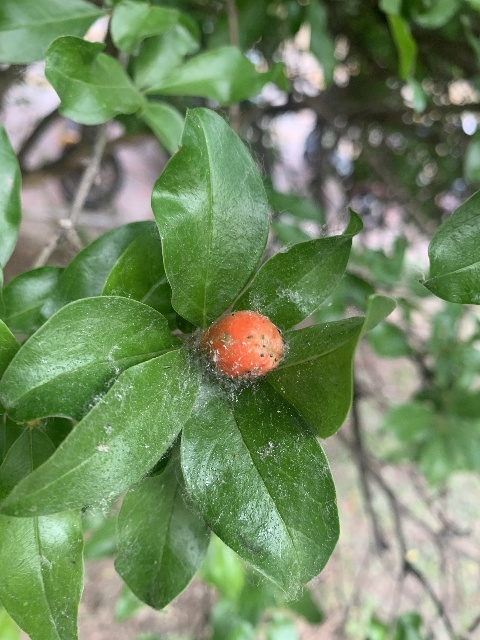bud: (202, 310, 283, 379)
